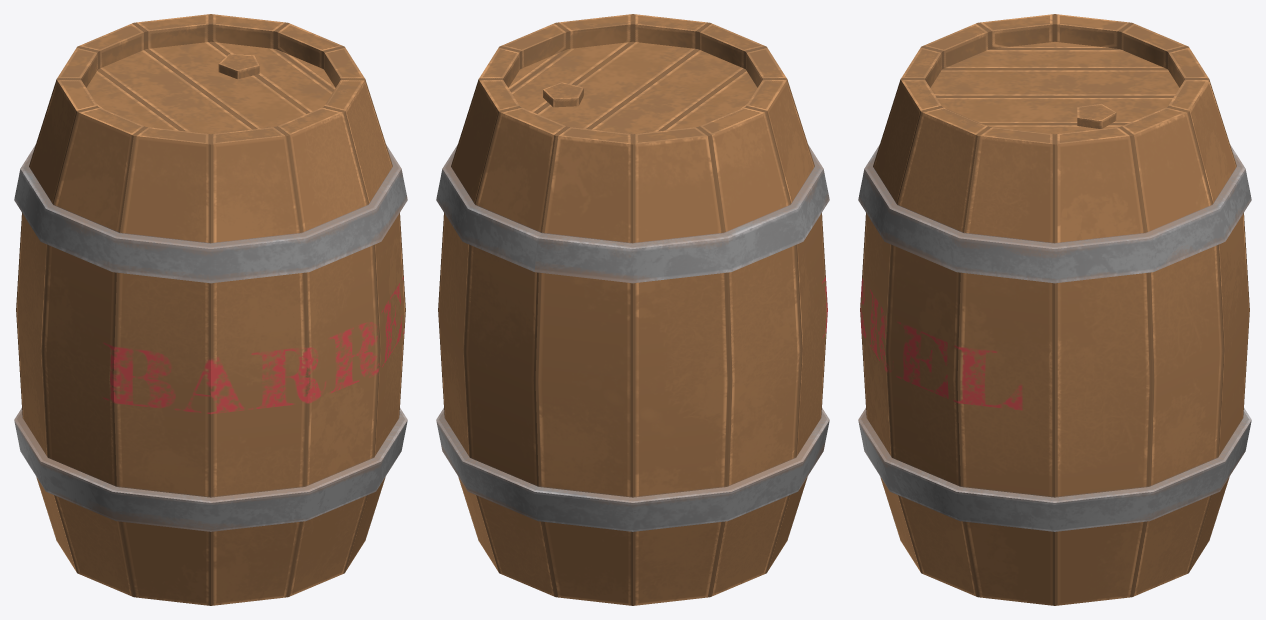
File: Barrel.fbx
3 views of the same model, side by side, from view 1: azimuth 30°, elevation 25°; view 2: azimuth 150°, elevation 25°; view 3: azimuth 270°, elevation 25° (orthographic).
Visible parts, largest first — view 1: Barrel_LOD0; view 2: Barrel_LOD0; view 3: Barrel_LOD0.
Boxes of the visible parts, x1=… form: Barrel_LOD0: x1=14, y1=14, x2=407, y2=605; Barrel_LOD0: x1=436, y1=14, x2=829, y2=605; Barrel_LOD0: x1=858, y1=14, x2=1251, y2=605.
Size of what is drawn, in the model's own units: 68.81 by 89 by 68.81.
